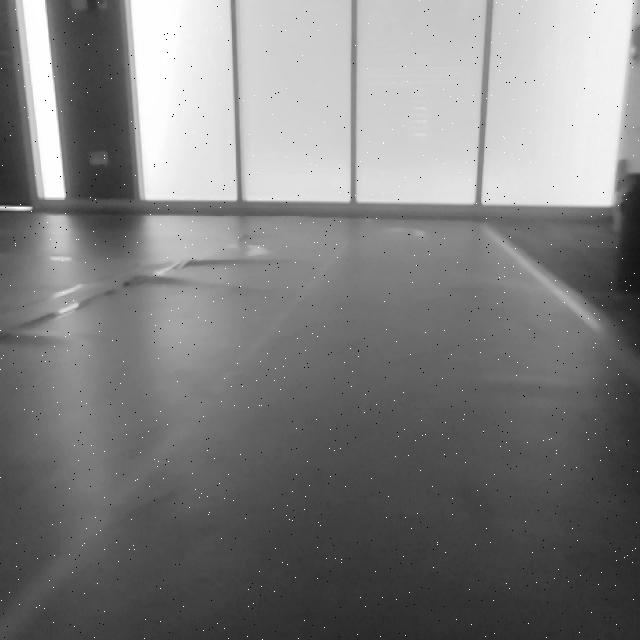left_lane: (2, 242, 342, 638)
right_lane: (478, 227, 639, 384)
